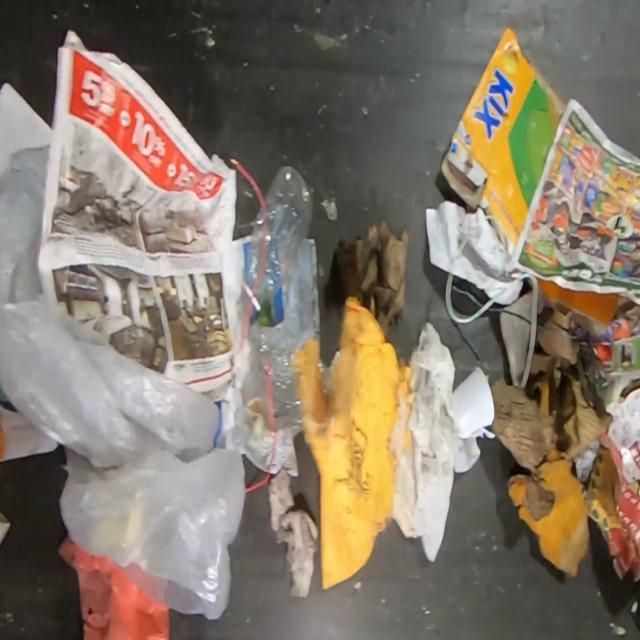cardboard: (294, 295, 414, 595), (435, 21, 566, 260), (490, 284, 614, 472), (506, 444, 624, 576), (574, 376, 640, 584), (335, 219, 411, 331)
rigid_plastic: (238, 160, 318, 317), (249, 321, 302, 432)
soft_plastic: (0, 143, 247, 622)
